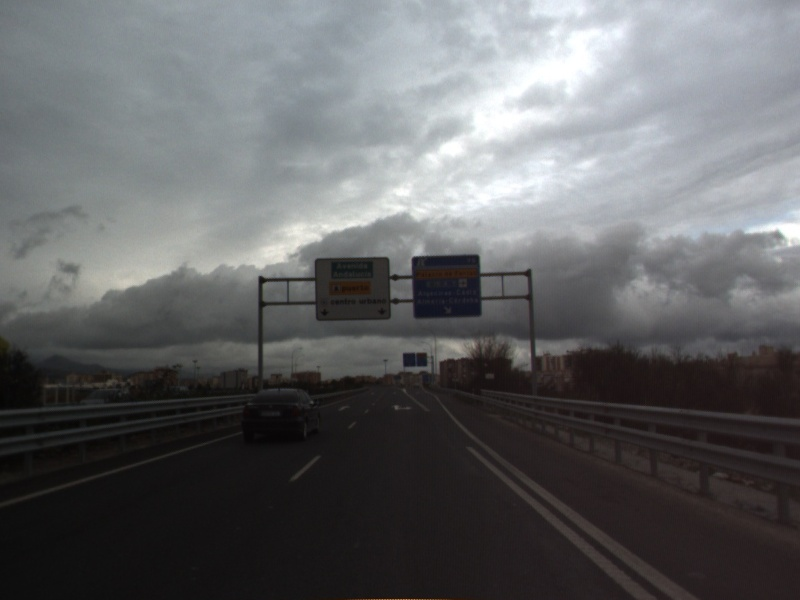STRAIGHT: (335, 403, 353, 412)
STRAIGHT_RIGHT: (390, 402, 415, 412)
